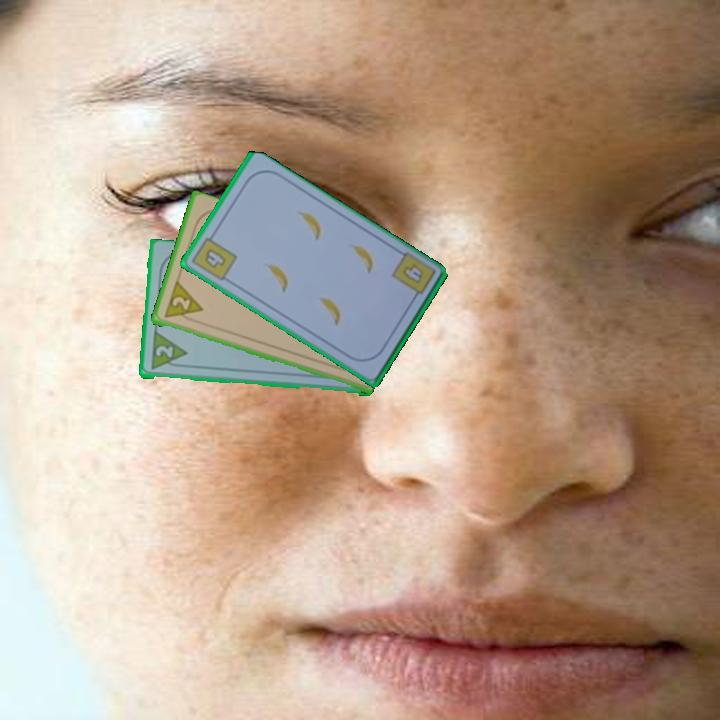2p: (160, 279, 205, 325), (152, 342, 176, 361)
4b: (188, 229, 240, 284), (399, 261, 426, 287)
